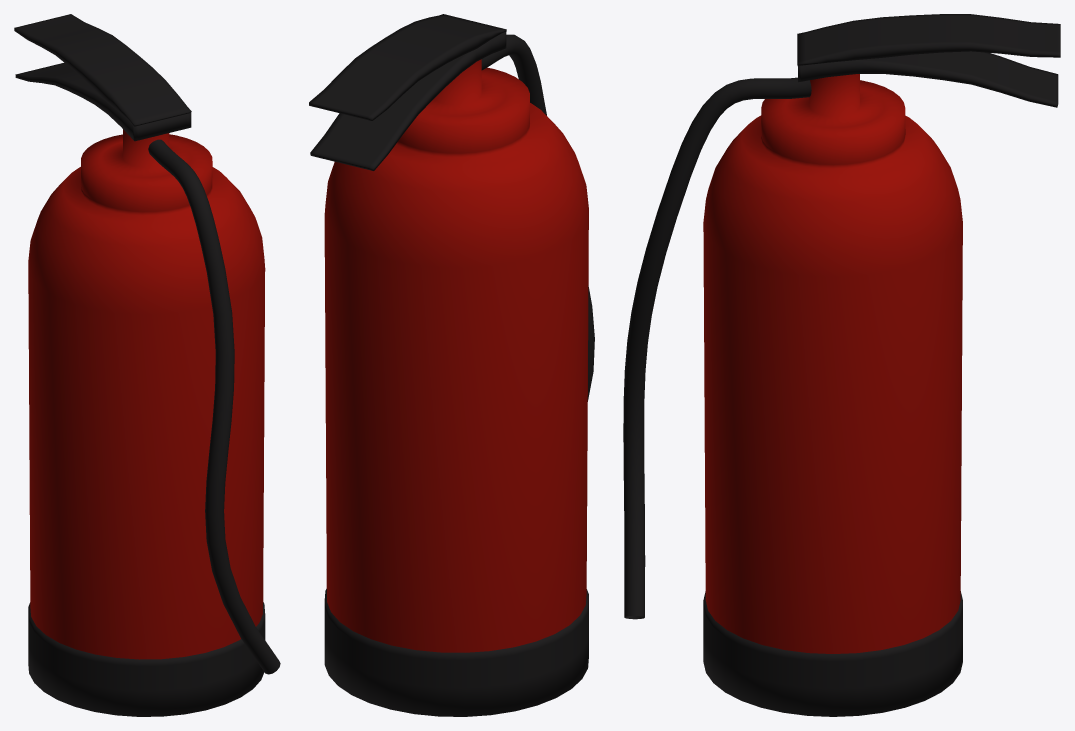
Rendered from extintor.fbx.
3 renders of one model, left to right at view 1: azimuth 30°, elevation 25°; view 2: azimuth 150°, elevation 25°; view 3: azimuth 270°, elevation 25°, orthographic. The views are drawn at different scales.
Visible parts, largest first — view 1: Extintor; view 2: Extintor; view 3: Extintor.
Boxes of the visible parts, x1,y1,x2,y2 form: Extintor: (14,14,280,716); Extintor: (309,14,594,716); Extintor: (623,14,1060,716).
Bounding box in the file's own units: 2 × 5.38 × 3.37.
